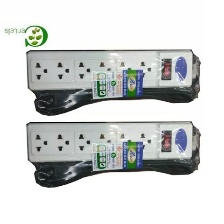three_eye_plug: (22, 47, 198, 96), (24, 119, 197, 165)
